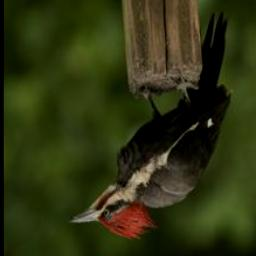Woodpecker: (64, 8, 244, 250)
